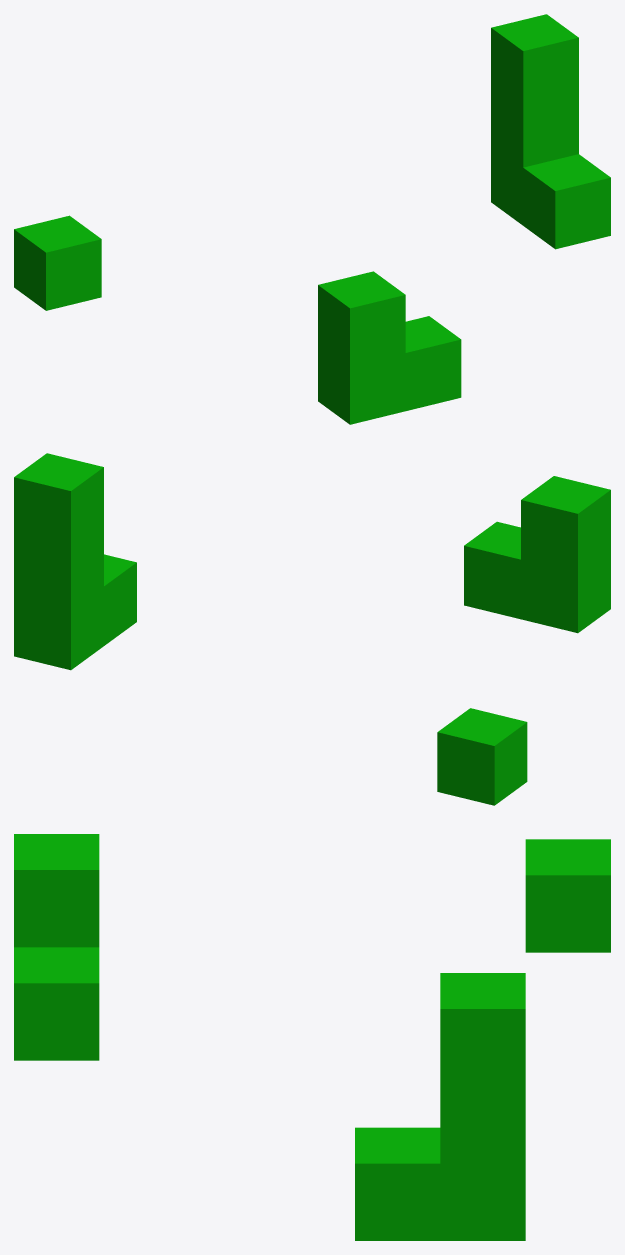
File: grass_thrd.obj
The picture shows the model from 3 angles, top to bottom: view 1: azimuth 30°, elevation 25°; view 2: azimuth 150°, elevation 25°; view 3: azimuth 270°, elevation 25°; orthographic projection. The views are drawn at different scales.
Parts seen in each view (by area): view 1: grass_thrd; view 2: grass_thrd; view 3: grass_thrd.
Boxes of the visible parts, x1,y1,x2,y2 form: grass_thrd: (14, 14, 610, 424); grass_thrd: (14, 453, 610, 805); grass_thrd: (14, 834, 610, 1240).
Size of the model in its own units: 9 by 3 by 7.
Materials: 1 (1 with a texture image).
